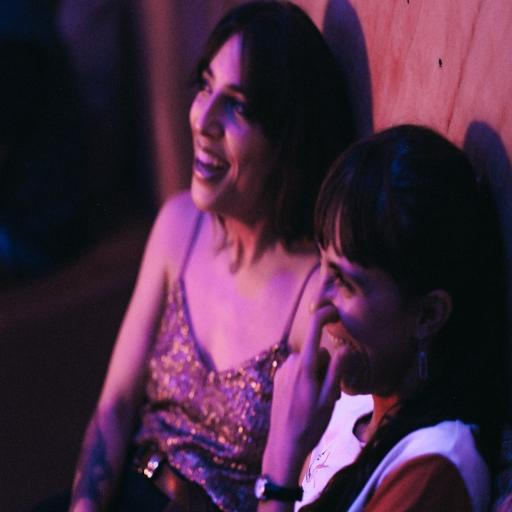face: (316, 245, 417, 398), (190, 35, 273, 221)
